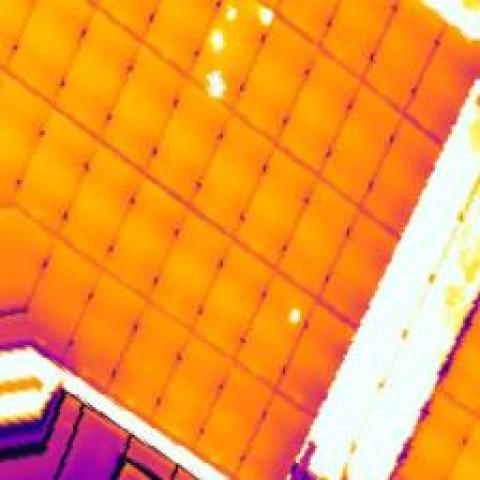fault: (204, 66, 229, 101), (255, 4, 279, 26), (206, 28, 227, 53), (285, 302, 304, 326), (221, 2, 240, 24)
